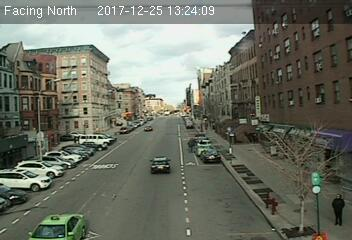car: (27, 211, 90, 240), (150, 156, 170, 172), (201, 149, 221, 163)
pedestrian: (329, 189, 345, 225)
